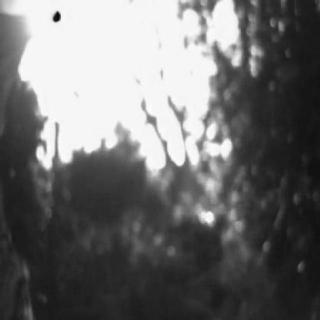other: (17, 1, 233, 177)
